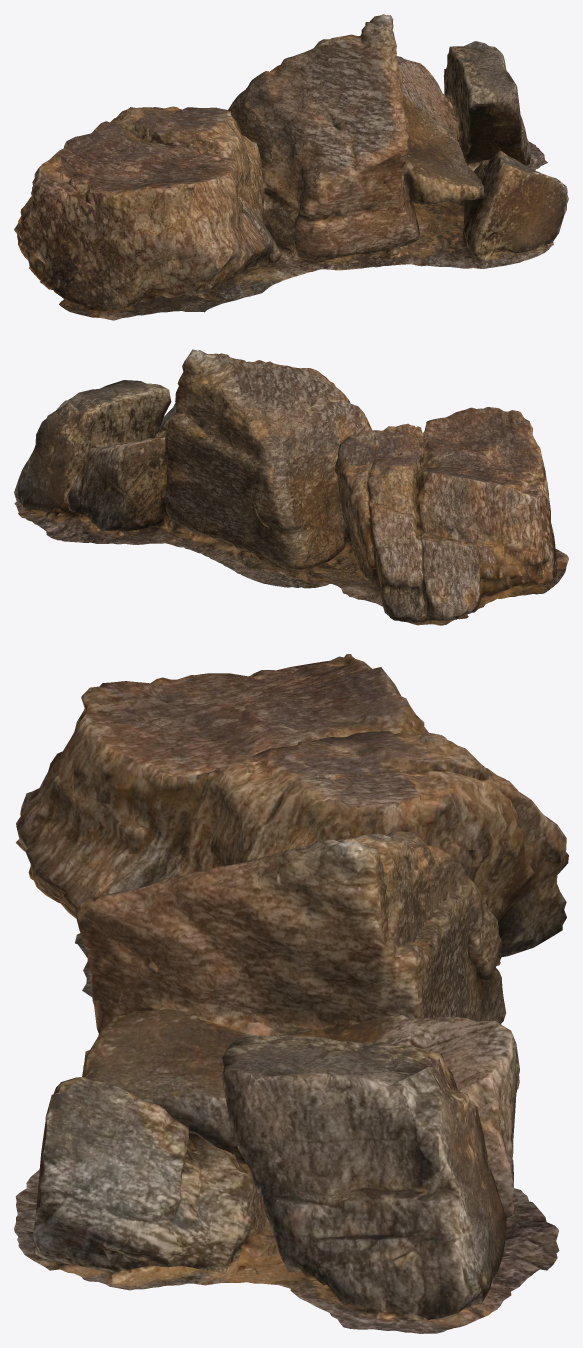
The model's file is namaqualand_boulder_02.glb.
3 views of the same model, one above another, from view 1: azimuth 30°, elevation 25°; view 2: azimuth 150°, elevation 25°; view 3: azimuth 270°, elevation 25° (orthographic). The views are drawn at different scales.
Visible parts, largest first — view 1: namaqualand_boulder_02_LOD1; view 2: namaqualand_boulder_02_LOD1; view 3: namaqualand_boulder_02_LOD1.
Part boxes in pixels (x1,y1,x2,y2): namaqualand_boulder_02_LOD1: (14, 14, 568, 320); namaqualand_boulder_02_LOD1: (14, 349, 568, 625); namaqualand_boulder_02_LOD1: (14, 654, 568, 1333).
Size of the model in its own units: 2.53 by 0.8822 by 1.23.
Materials: 1 (1 with a texture image).
